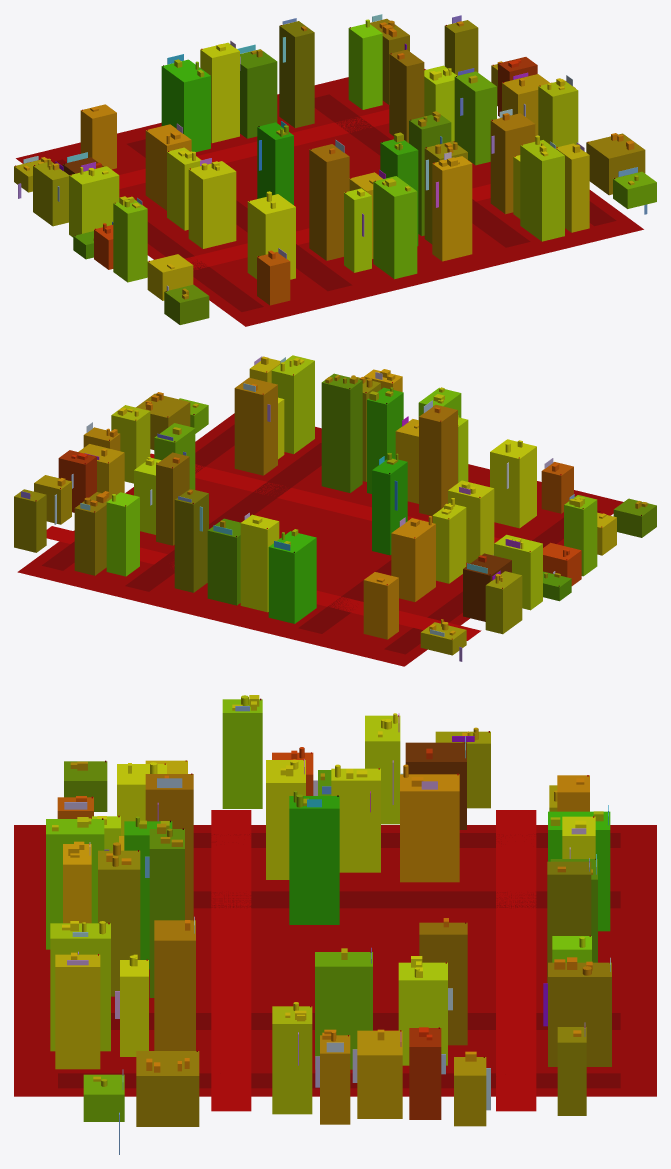
File: city.glb
3 views of the same model, one above another, from view 1: azimuth 30°, elevation 25°; view 2: azimuth 150°, elevation 25°; view 3: azimuth 270°, elevation 25° (orthographic). The views are drawn at different scales.
Parts seen in each view (by area): view 1: city; view 2: city; view 3: city.
Boxes of the visible parts, bbox=[...] form: city: bbox=[14, 14, 656, 326]; city: bbox=[14, 355, 656, 666]; city: bbox=[14, 695, 656, 1154].
Bounding box in the file's own units: 198 × 51.18 × 160.
